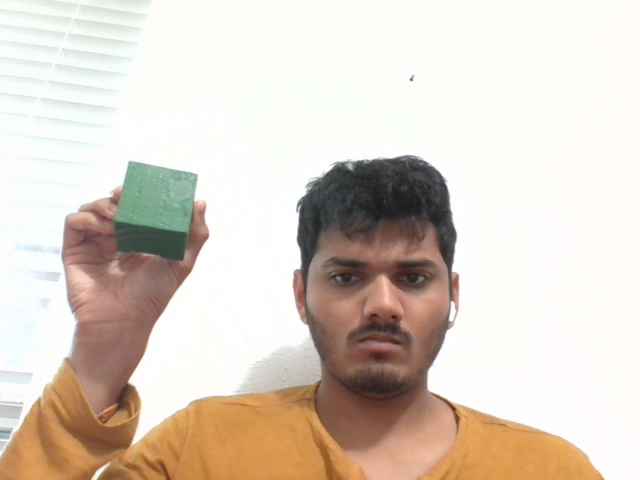GreenBlock: (114, 160, 198, 261)
